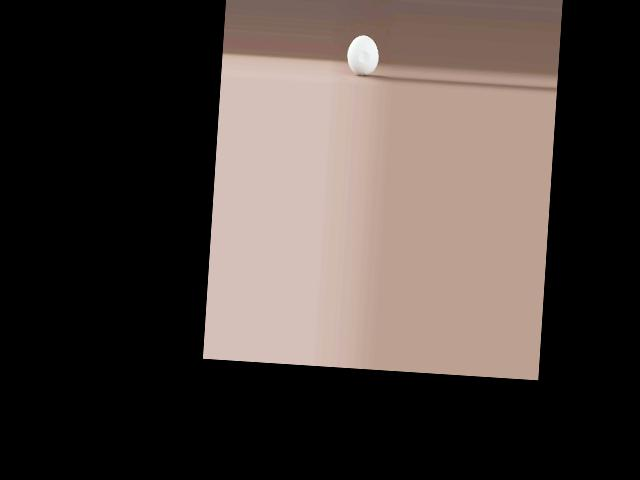egg: (346, 34, 379, 76)
